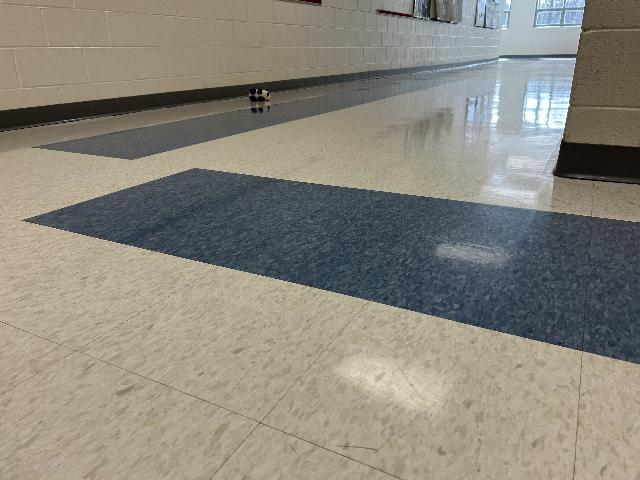panda_plushie: (249, 88, 271, 102)
